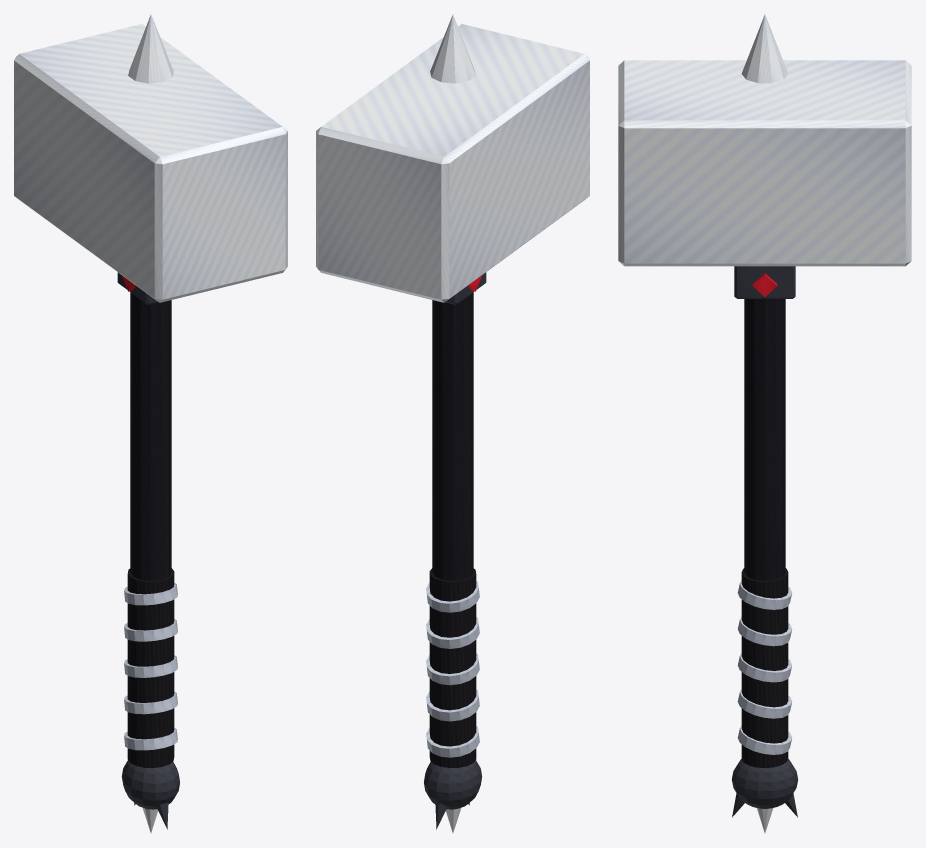
The model's file is Mace.obj.
3 views of the same model, side by side, from view 1: azimuth 30°, elevation 25°; view 2: azimuth 150°, elevation 25°; view 3: azimuth 270°, elevation 25° (orthographic).
Visible parts, largest first — view 1: Mace; view 2: Mace; view 3: Mace.
Boxes of the visible parts, x1,y1,x2,y2 form: Mace: (14,14,287,832); Mace: (316,14,589,832); Mace: (618,14,911,832).
Bounding box in the file's own units: 1.05 × 6.18 × 2.
Materials: 1 (1 with a texture image).
